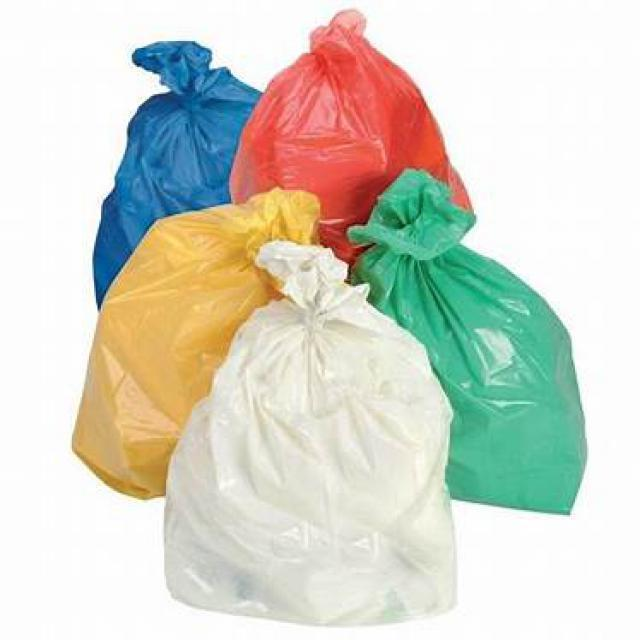Single-layer Plastic: (165, 242, 454, 623), (349, 170, 586, 513), (72, 188, 320, 498), (230, 10, 471, 262), (92, 41, 260, 307)
